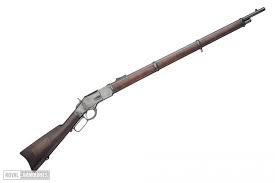larga: (19, 7, 266, 173)
